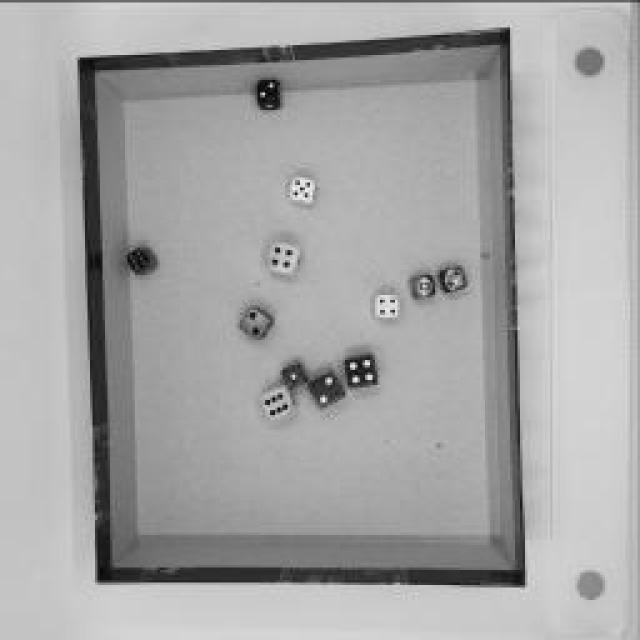dice_1: (409, 270, 439, 302), (281, 359, 311, 389)
dice_2: (308, 365, 348, 410), (239, 298, 276, 342), (254, 75, 286, 113), (438, 259, 470, 296)
dice_4: (265, 236, 305, 279), (342, 349, 382, 389), (374, 290, 404, 320)
dice_5: (288, 175, 320, 205)
dice_6: (258, 382, 298, 422), (124, 244, 161, 276)
